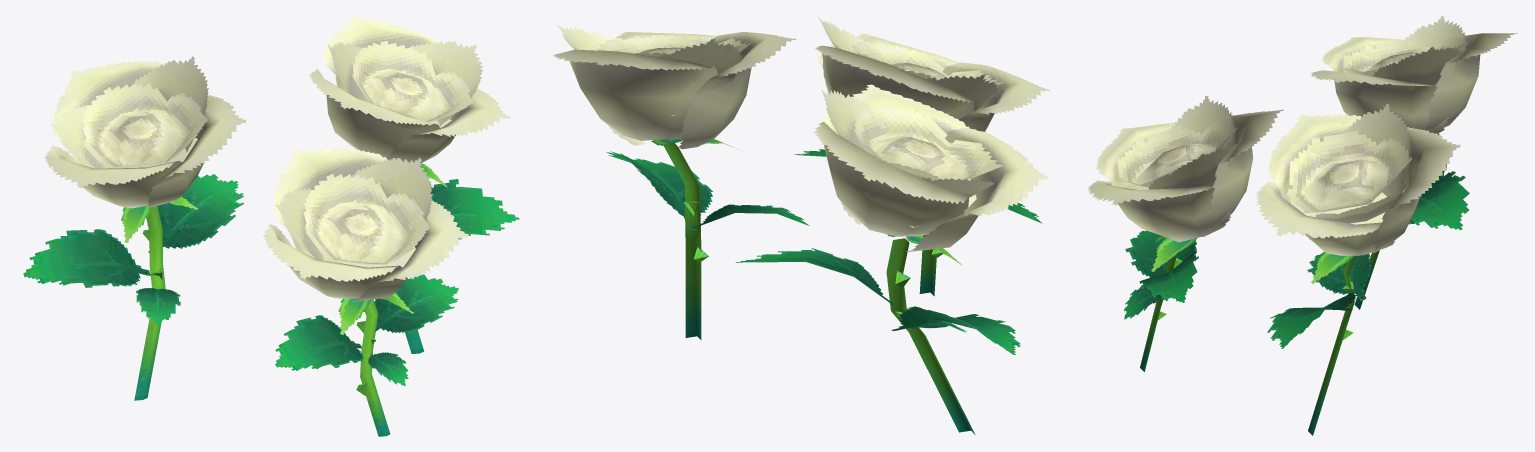
File: white-roses.glb
The picture shows the model from 3 angles, left to right: view 1: azimuth 30°, elevation 25°; view 2: azimuth 150°, elevation 25°; view 3: azimuth 270°, elevation 25°; orthographic projection. The views are drawn at different scales.
Size of the model in its own units: 10.07 by 6.53 by 8.37.
Materials: 2 (2 with a texture image).
